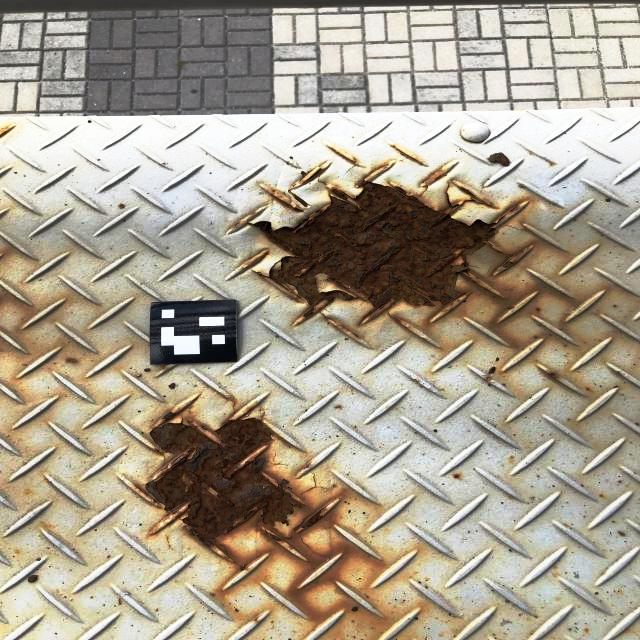Corrosion: (252, 182, 495, 308), (146, 418, 305, 549), (442, 182, 498, 216), (270, 189, 310, 212), (356, 162, 390, 188), (293, 507, 326, 532), (325, 316, 359, 340), (496, 247, 528, 271), (393, 144, 424, 165), (298, 164, 324, 187), (331, 145, 359, 165), (494, 204, 520, 223), (153, 410, 181, 427), (263, 528, 288, 543), (328, 186, 353, 200), (424, 168, 446, 183), (302, 307, 316, 318), (232, 221, 243, 228), (548, 372, 558, 379)
